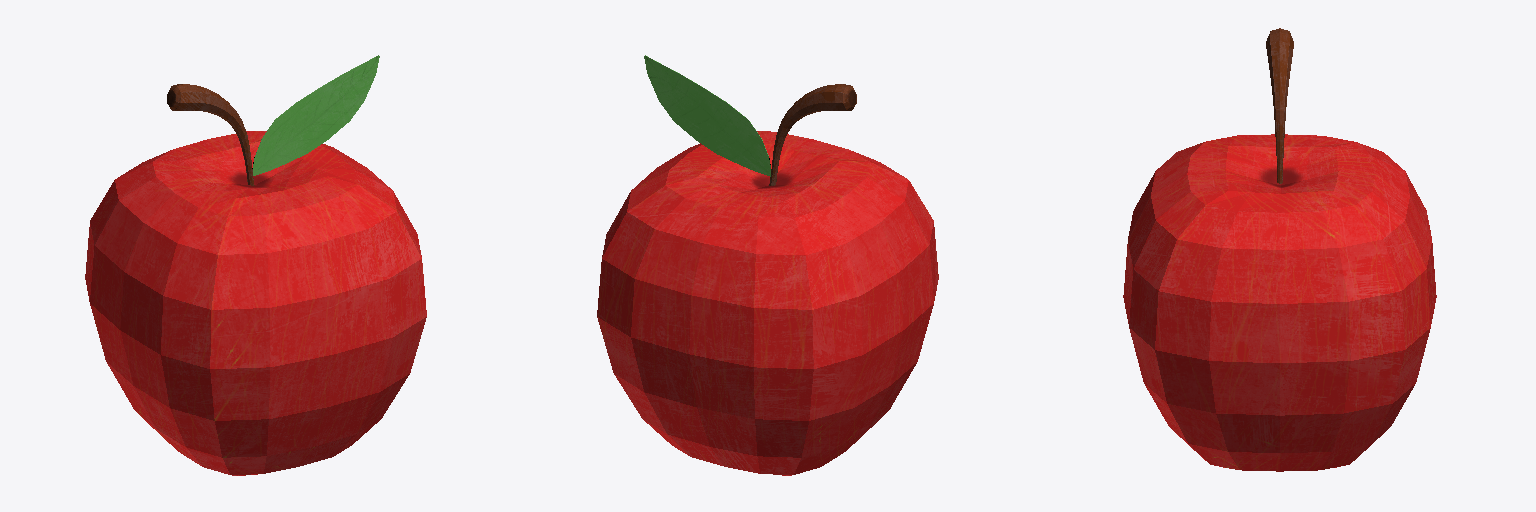
The picture shows the model from 3 angles: view 1: azimuth 30°, elevation 25°; view 2: azimuth 150°, elevation 25°; view 3: azimuth 270°, elevation 25°; orthographic projection.
Visible parts, largest first — view 1: apple_final_Cube.004; view 2: apple_final_Cube.004; view 3: apple_final_Cube.004.
Boxes of the visible parts, x1,y1,x2,y2 form: apple_final_Cube.004: [85, 55, 426, 475]; apple_final_Cube.004: [597, 55, 938, 475]; apple_final_Cube.004: [1123, 28, 1436, 471].
Bounding box in the file's own units: 0.45 × 0.6 × 0.45.
Materials: 1 (1 with a texture image).